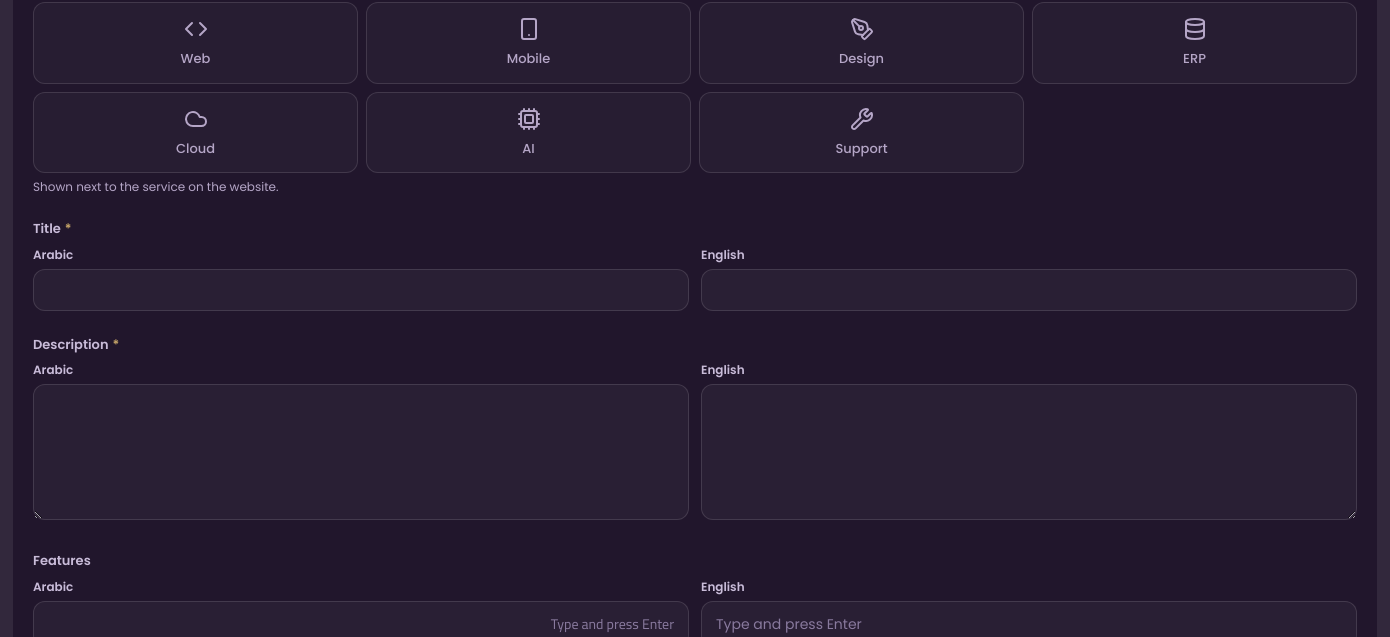
Test case: ServiceCreate › shows a toast when the server is down (and keeps the form)
Click the radio button labelled "Cloud": click(196, 133) top-left (33, 92), bottom-right (358, 173)
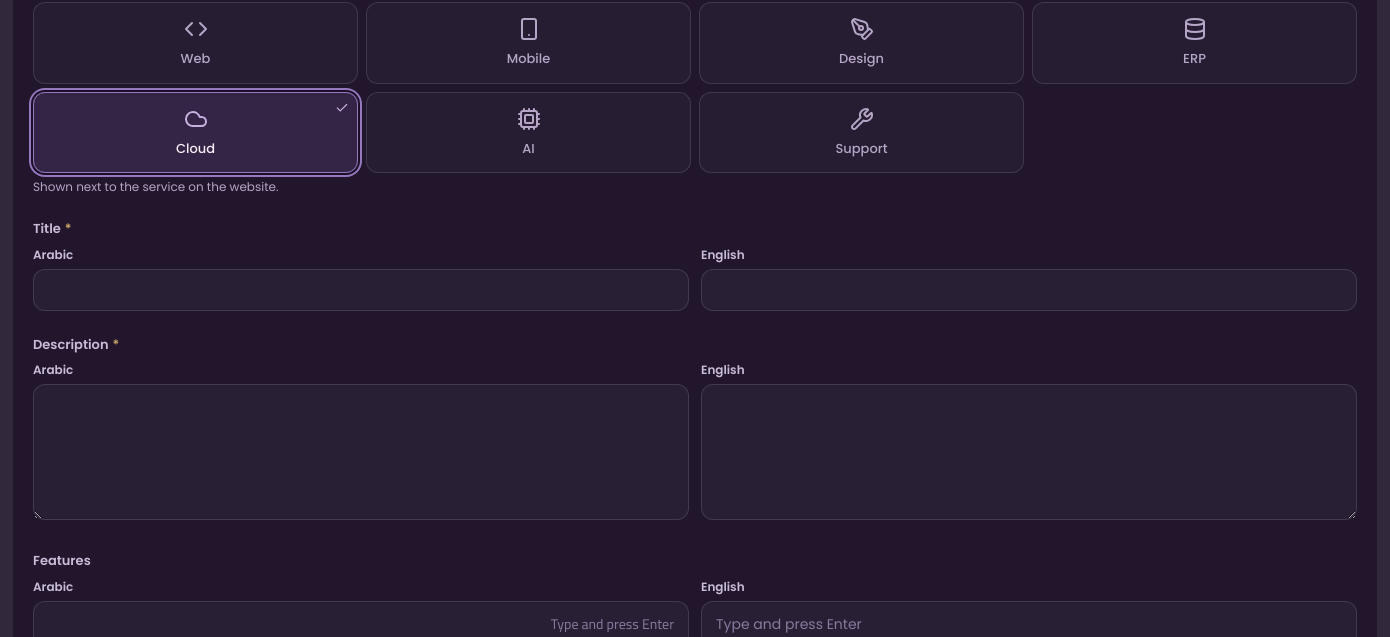
In the field named "Title (Arabic)": (361, 290) top-left (33, 269), bottom-right (689, 311), type "عنوان"
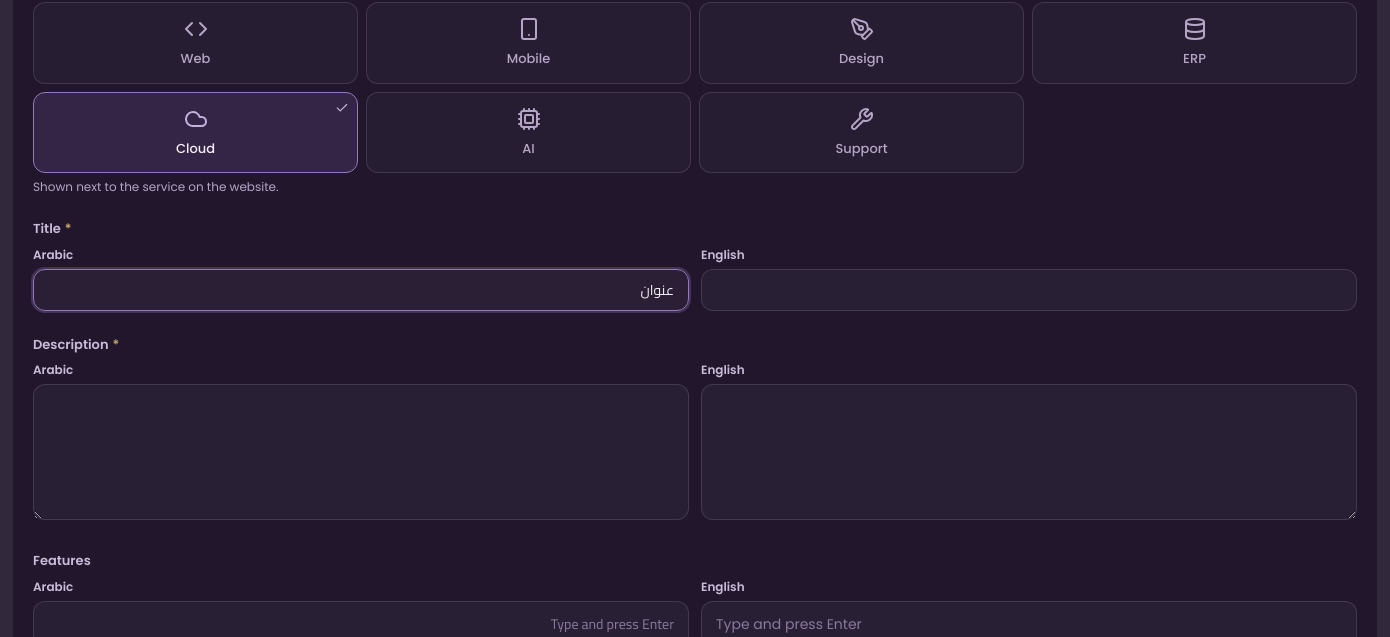
In the field named "Title (English)": (1029, 290) top-left (701, 269), bottom-right (1357, 311), type "A title"
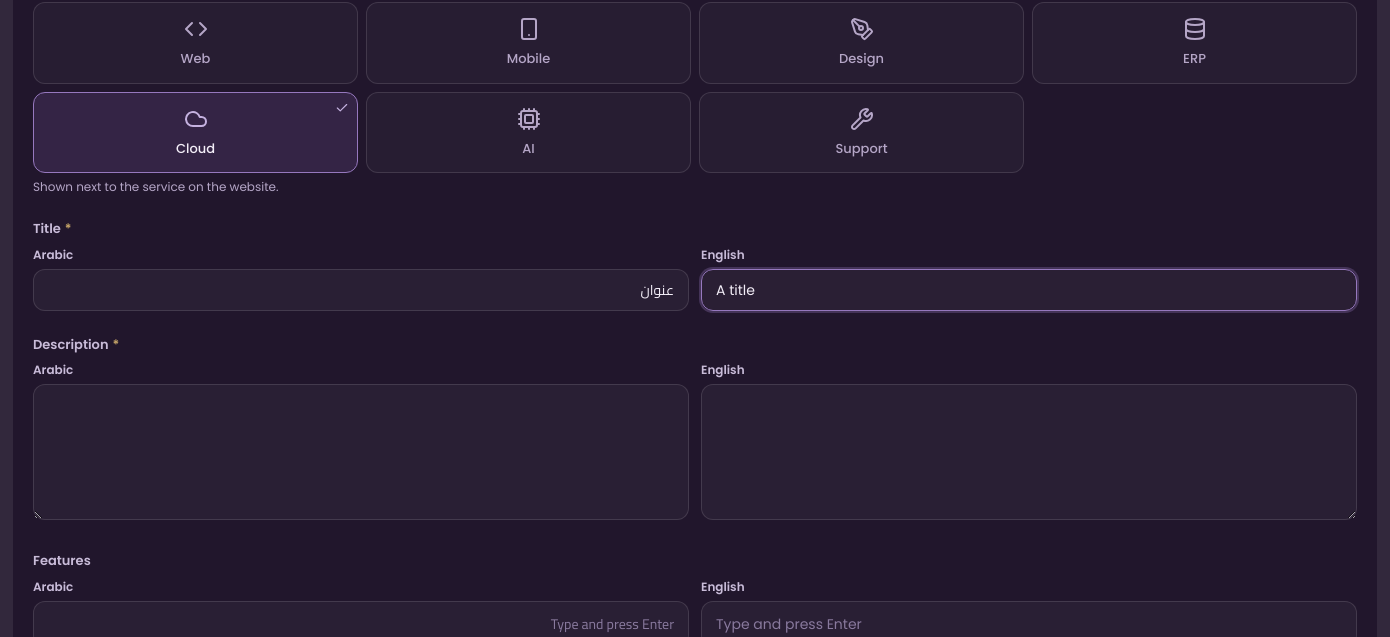
In the text box named "Description (Arabic)": (361, 452) top-left (33, 384), bottom-right (689, 520), type "وصف"
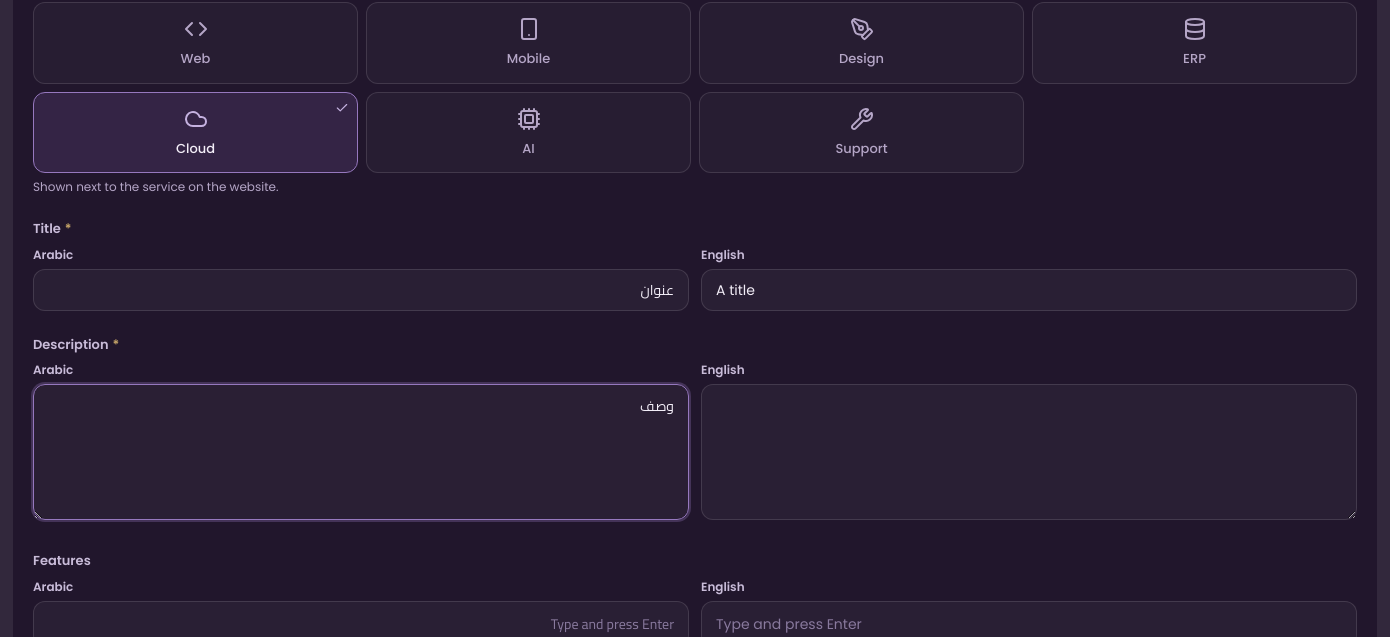
In the text box named "Description (English)": (1029, 452) top-left (701, 384), bottom-right (1357, 520), type "A description"
(page scrolled)
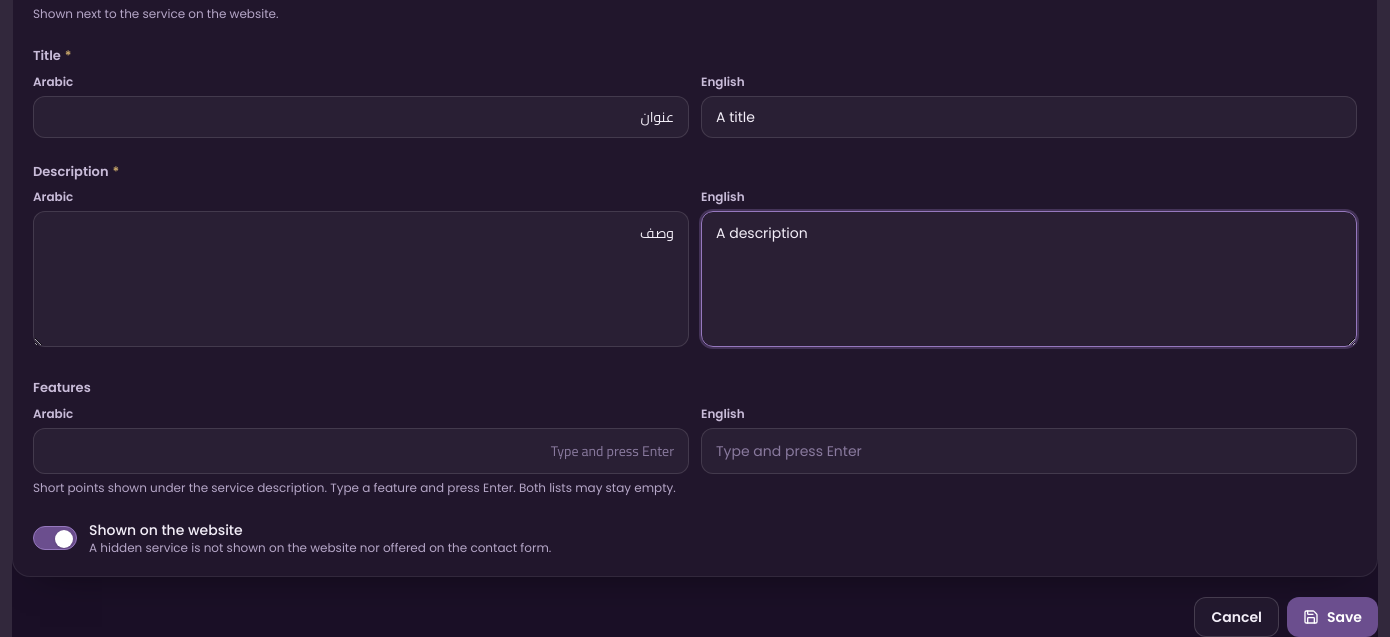
Click the button "Save": click(1332, 616) top-left (1287, 596), bottom-right (1378, 636)
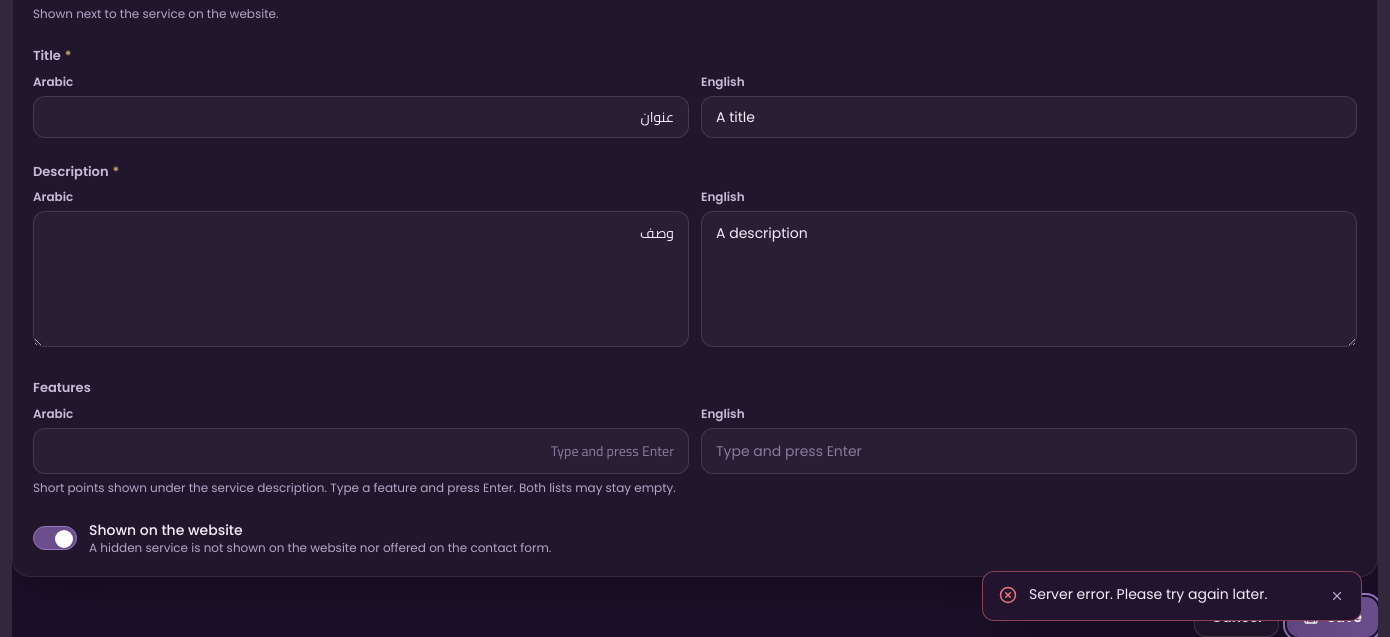
Result: the text "Server error. Please try again later." is shown at top-left (1029, 584), bottom-right (1267, 604)
